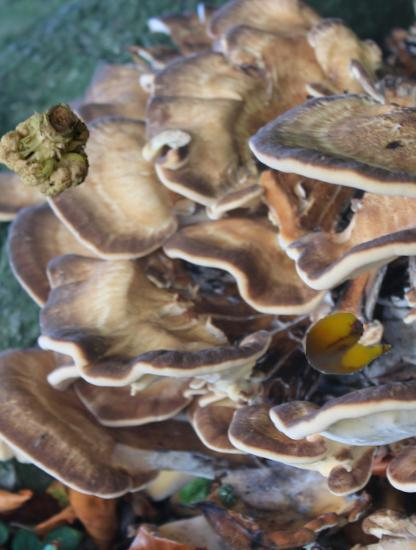Banana: (306, 301, 392, 387)
Cauliflower: (3, 105, 98, 200)
